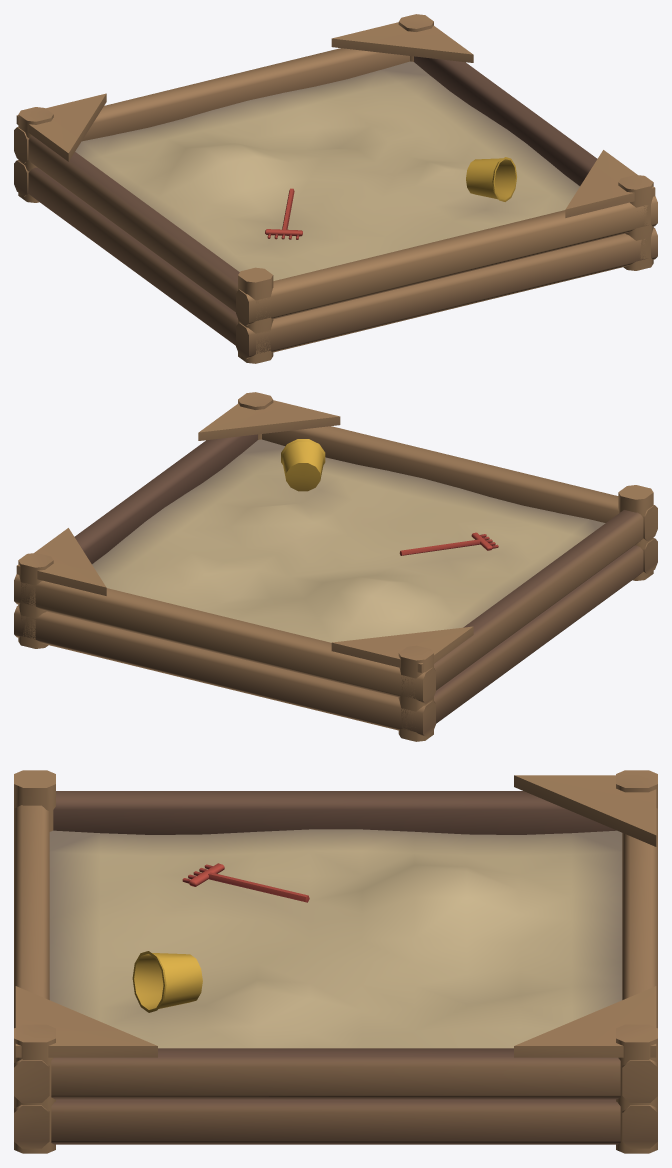
Rendered from Sandpit.fbx.
3 views of the same model, one above another, from view 1: azimuth 30°, elevation 25°; view 2: azimuth 150°, elevation 25°; view 3: azimuth 270°, elevation 25° (orthographic). The views are drawn at different scales.
Parts seen in each view (by area): view 1: Sandpit; view 2: Sandpit; view 3: Sandpit.
Boxes of the visible parts, <box> form: Sandpit: <box>14,14,657,363</box>; Sandpit: <box>14,392,657,741</box>; Sandpit: <box>14,770,657,1153</box>.
Size of the model in its own units: 2 by 0.4451 by 1.99.
